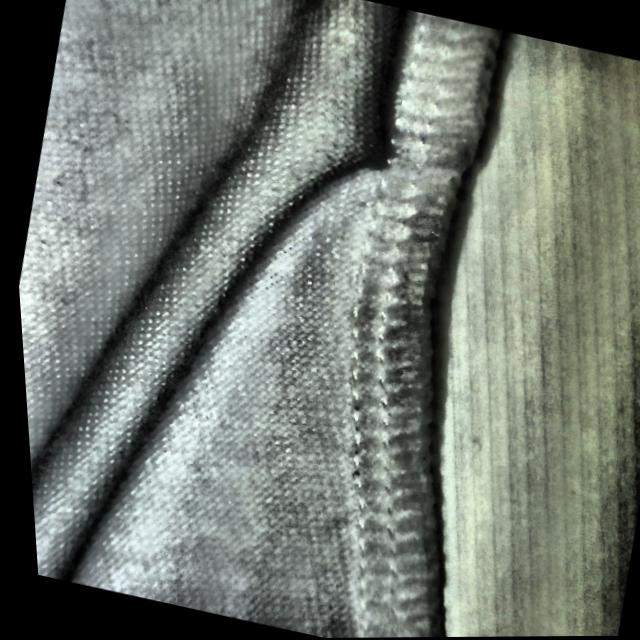seam: (233, 8, 512, 280)
